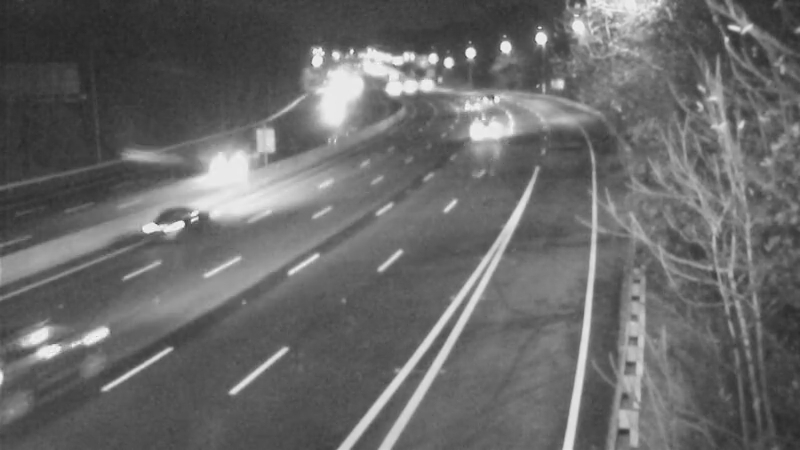vehicle: (1, 314, 95, 424), (133, 183, 213, 263), (192, 127, 272, 207), (471, 70, 521, 120), (432, 77, 482, 127), (453, 102, 503, 152)
